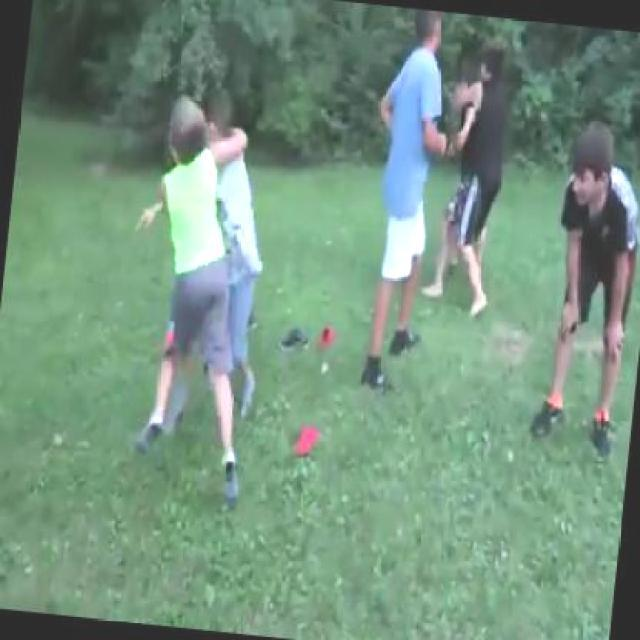fight: (114, 76, 286, 502), (428, 45, 514, 318)
non-fight: (534, 115, 638, 457)
